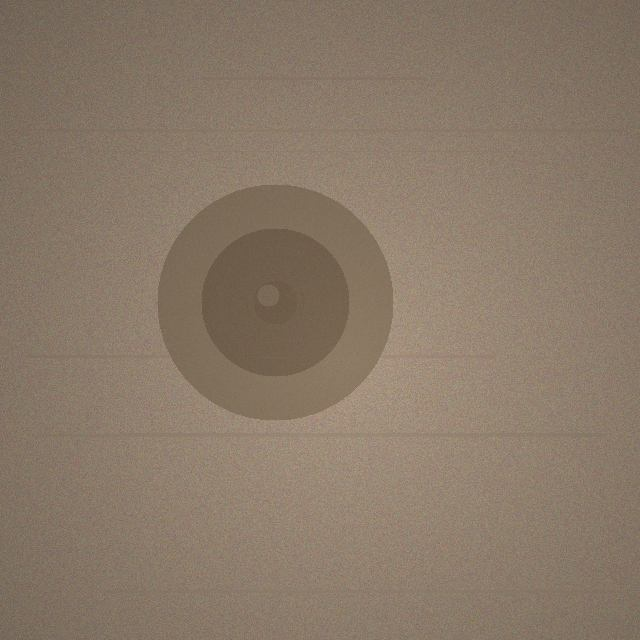good: (157, 184, 393, 420)
